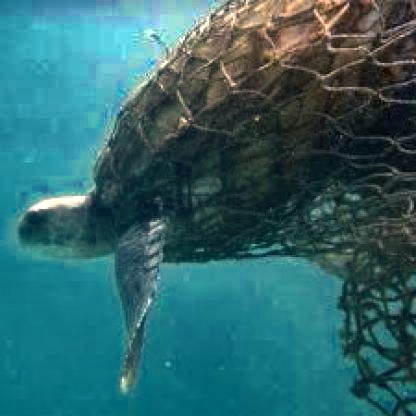net: (114, 2, 416, 259)
